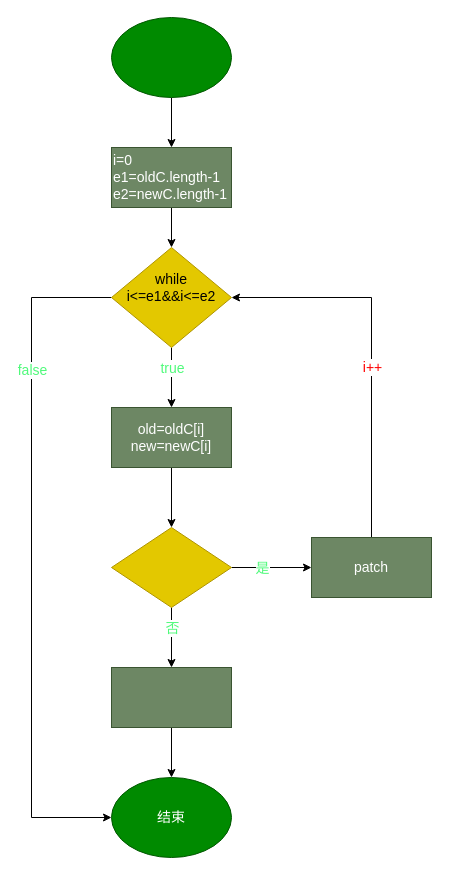
Some shapes in this 449 by 875 pixel diagram are drawn without their labels. The shapes that lost their labels are listed below. From the top down, each one's centre as x and y in pixels, then its label:
At point 171,57: "oldC newC".
At point 171,567: "isSameVNode".
At point 171,697: "break".
